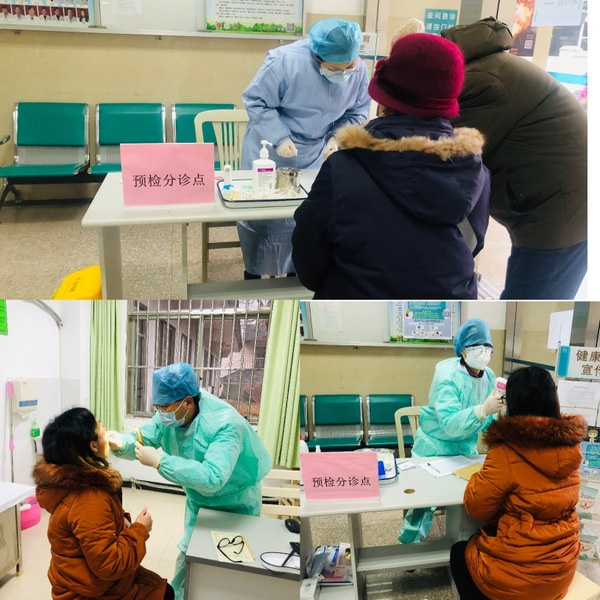correctlyWear: (315, 41, 359, 86), (149, 387, 193, 428), (456, 336, 494, 371)
noWear: (81, 422, 110, 460)
